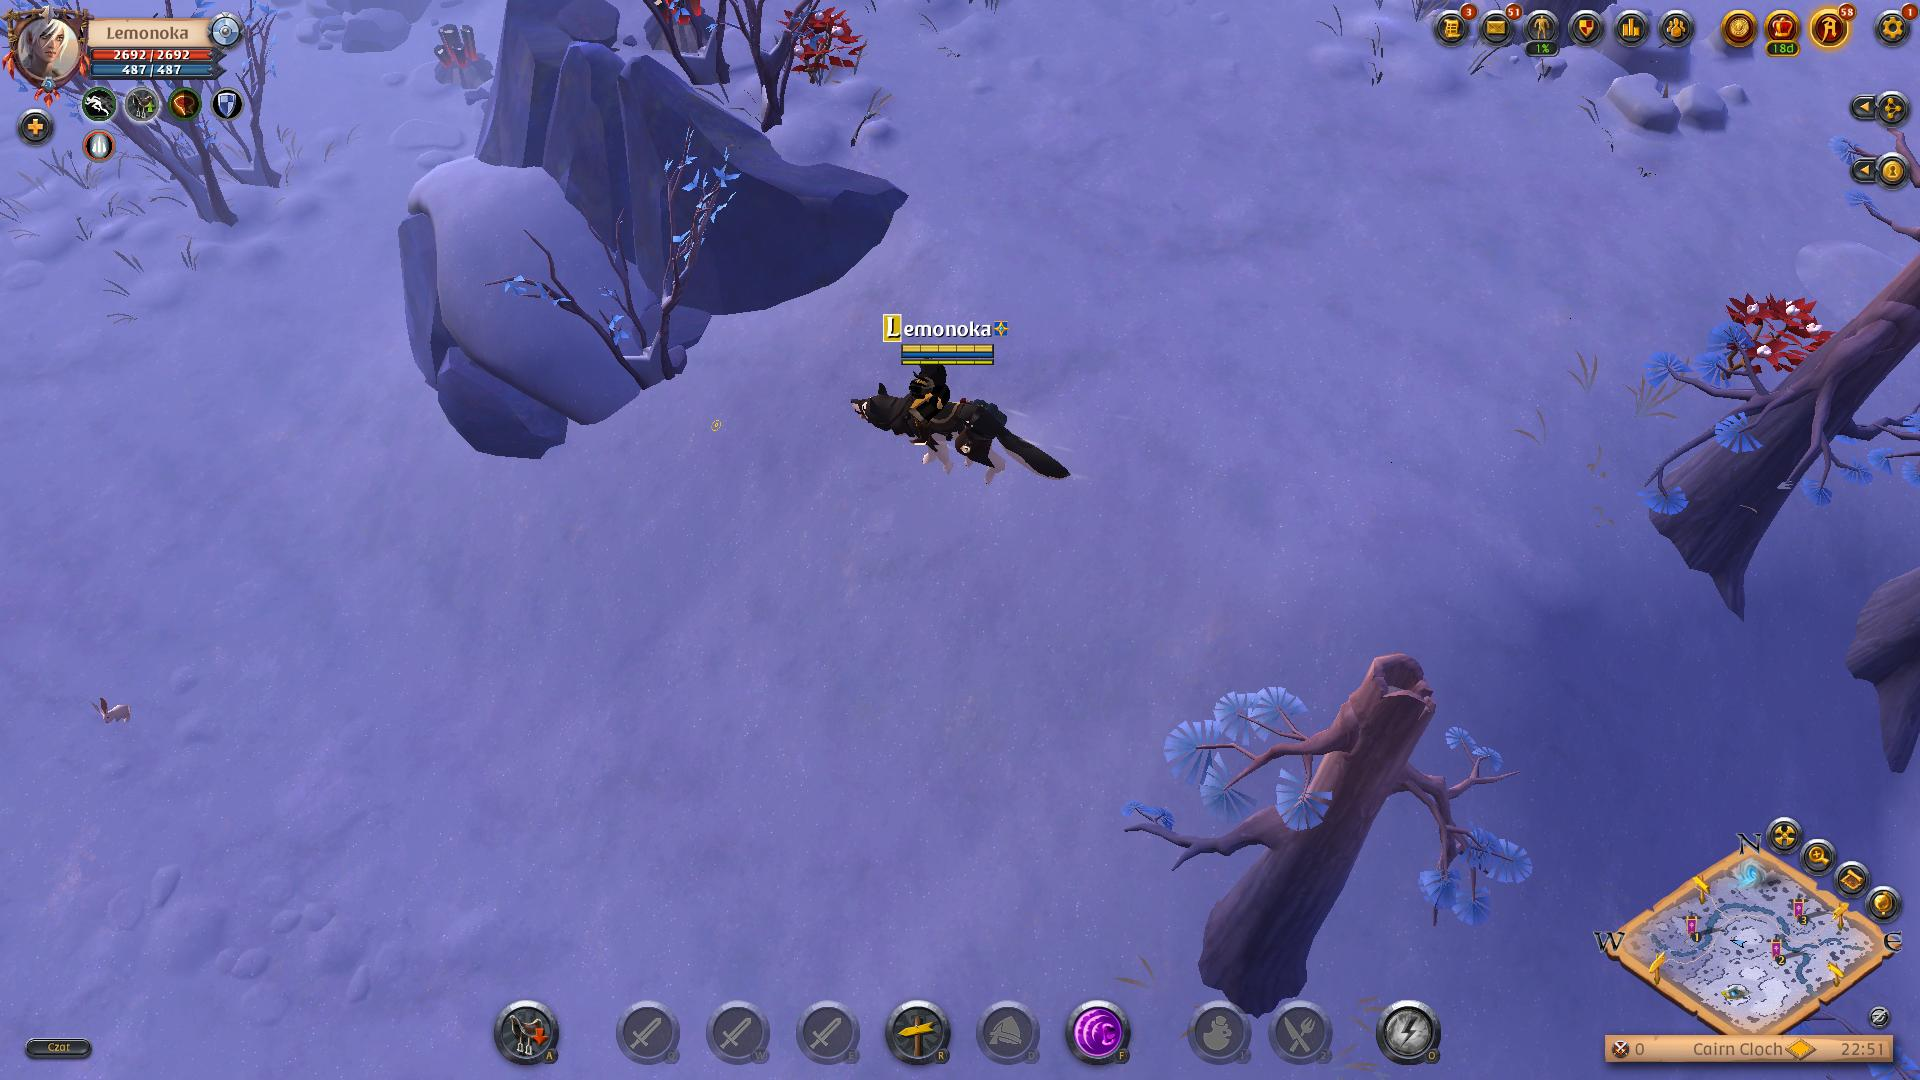fiber tier 5: (1729, 285, 1832, 381), (778, 0, 864, 84)
